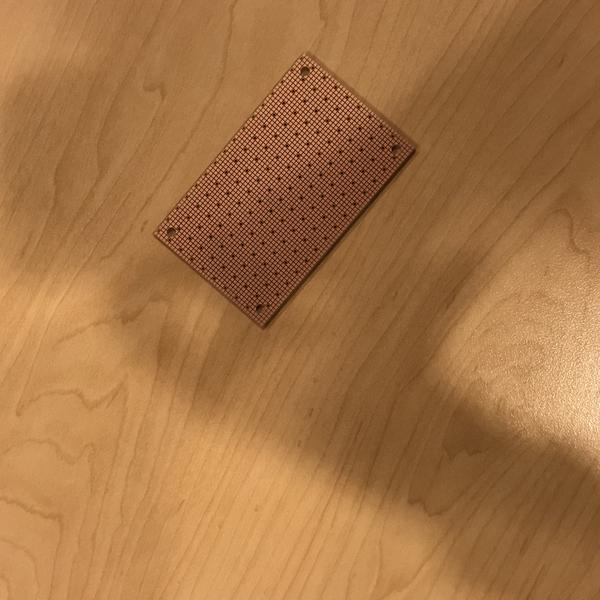board: (151, 51, 420, 332)
